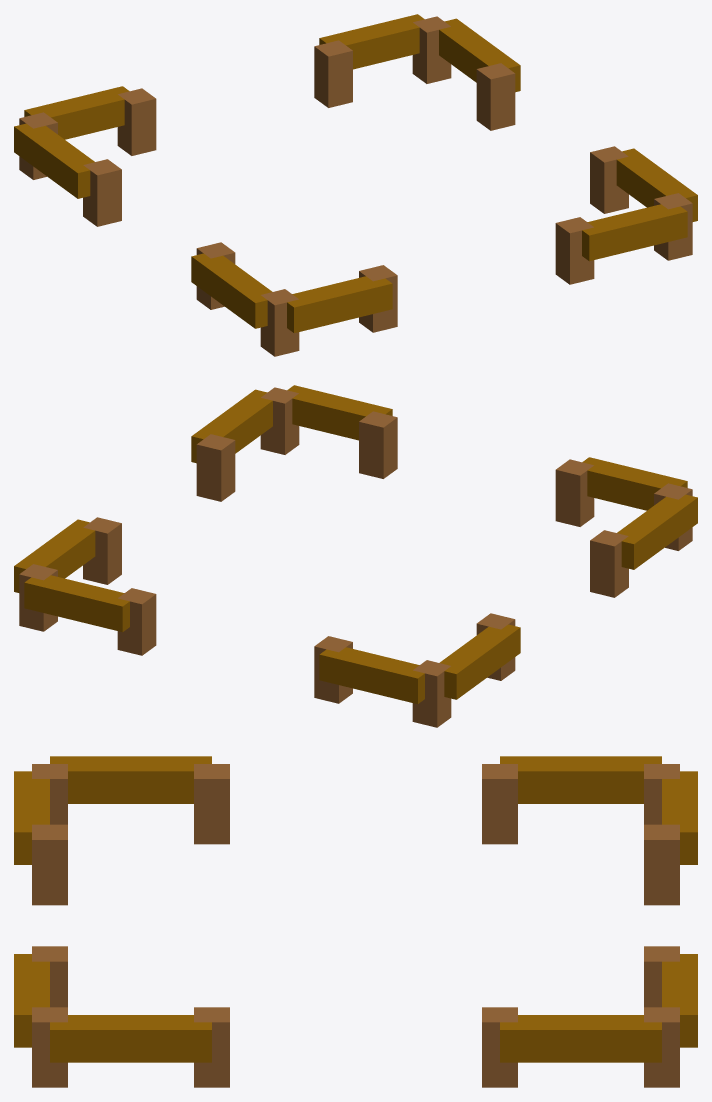
Rendered from newbase-4.obj.
3 views of the same model, one above another, from view 1: azimuth 30°, elevation 25°; view 2: azimuth 150°, elevation 25°; view 3: azimuth 270°, elevation 25° (orthographic). The views are drawn at different scales.
Size of the model in its own units: 3.6 by 0.4 by 3.8.
Materials: 1 (1 with a texture image).
